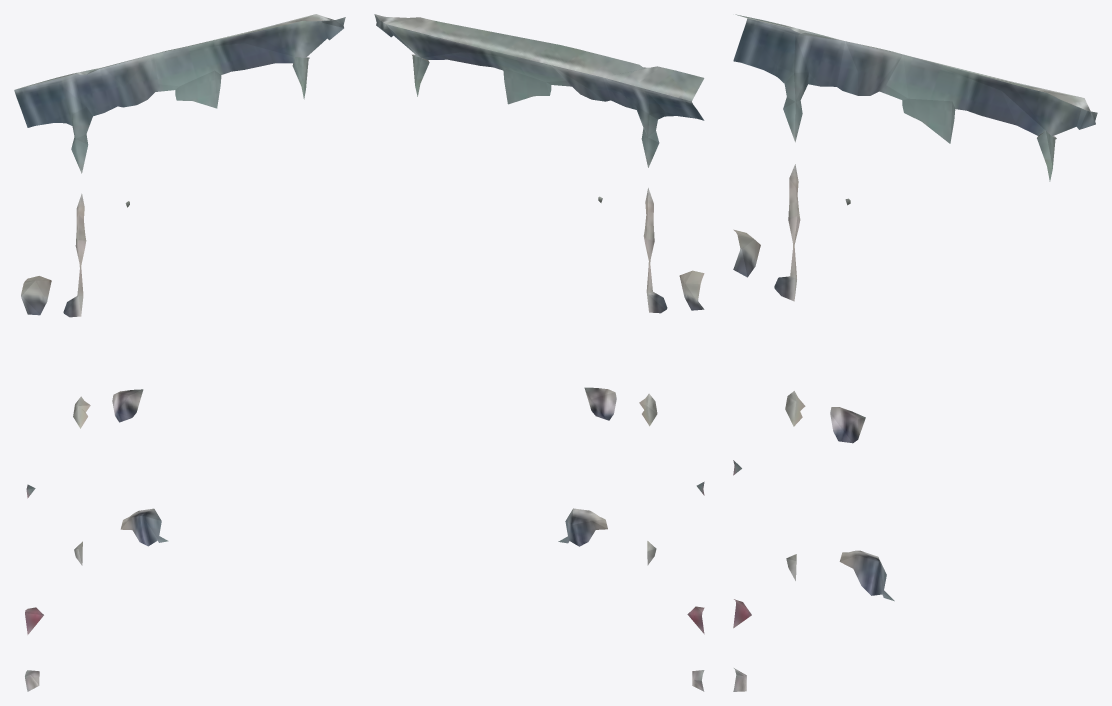
File: Tile_+011_+009_L20_000001270.glb
3 views of the same model, side by side, from view 1: azimuth 30°, elevation 25°; view 2: azimuth 150°, elevation 25°; view 3: azimuth 330°, elevation 25° (orthographic). The views are drawn at different scales.
Visible parts, largest first — view 1: rtc; view 2: rtc; view 3: rtc.
Part boxes in pixels (<box>): rtc: <box>14,14,345,691</box>; rtc: <box>374,14,704,691</box>; rtc: <box>733,14,1097,691</box>.
Bounding box in the file's own units: 13.31 × 23.93 × 0.9304.
Materials: 1 (1 with a texture image).
